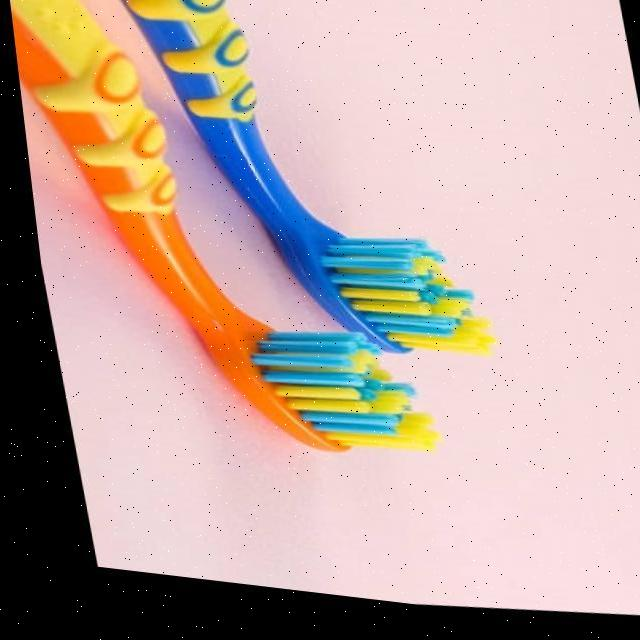toothbrush: (548, 0, 640, 634), (610, 0, 640, 528)
